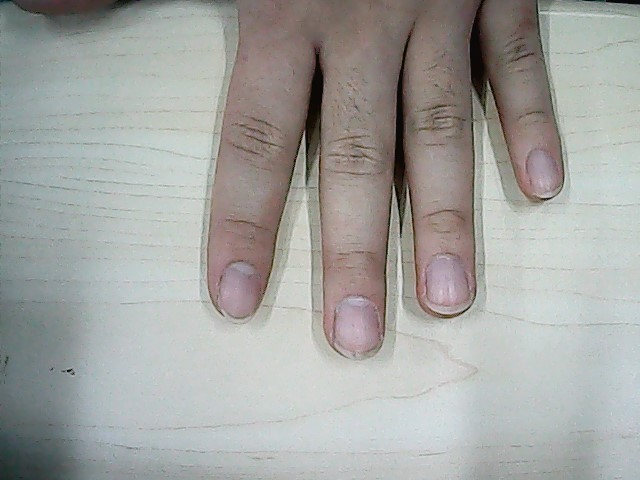nail: (333, 293, 383, 361), (423, 251, 473, 318), (217, 259, 262, 320), (525, 147, 564, 198)
